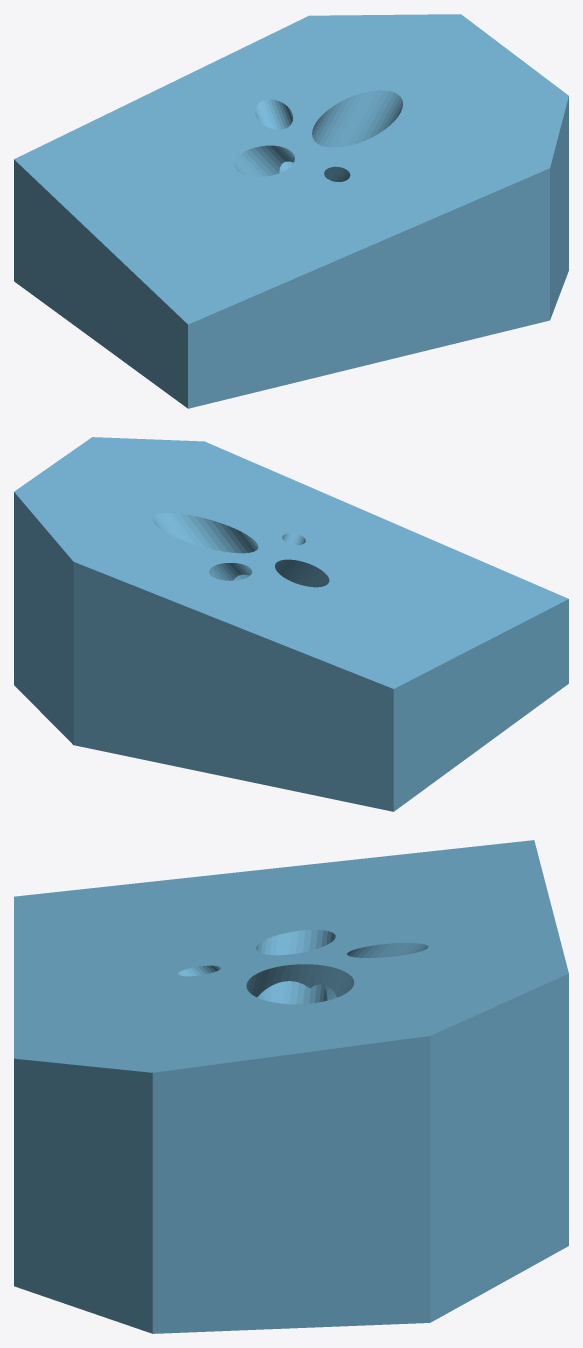
Rendered from modelo.glb.
3 renders of one model, top to bottom at view 1: azimuth 30°, elevation 25°; view 2: azimuth 150°, elevation 25°; view 3: azimuth 270°, elevation 25°, orthographic. The views are drawn at different scales.
Visible parts, largest first — view 1: Pieza irregular · prueba de la versión estable 1.0.0; view 2: Pieza irregular · prueba de la versión estable 1.0.0; view 3: Pieza irregular · prueba de la versión estable 1.0.0.
Boxes of the visible parts, x1,y1,x2,y2 form: Pieza irregular · prueba de la versión estable 1.0.0: [14, 14, 568, 408]; Pieza irregular · prueba de la versión estable 1.0.0: [14, 437, 568, 811]; Pieza irregular · prueba de la versión estable 1.0.0: [14, 840, 568, 1333].
Bounding box in the file's own units: 0.085 × 0.0365 × 0.064.
